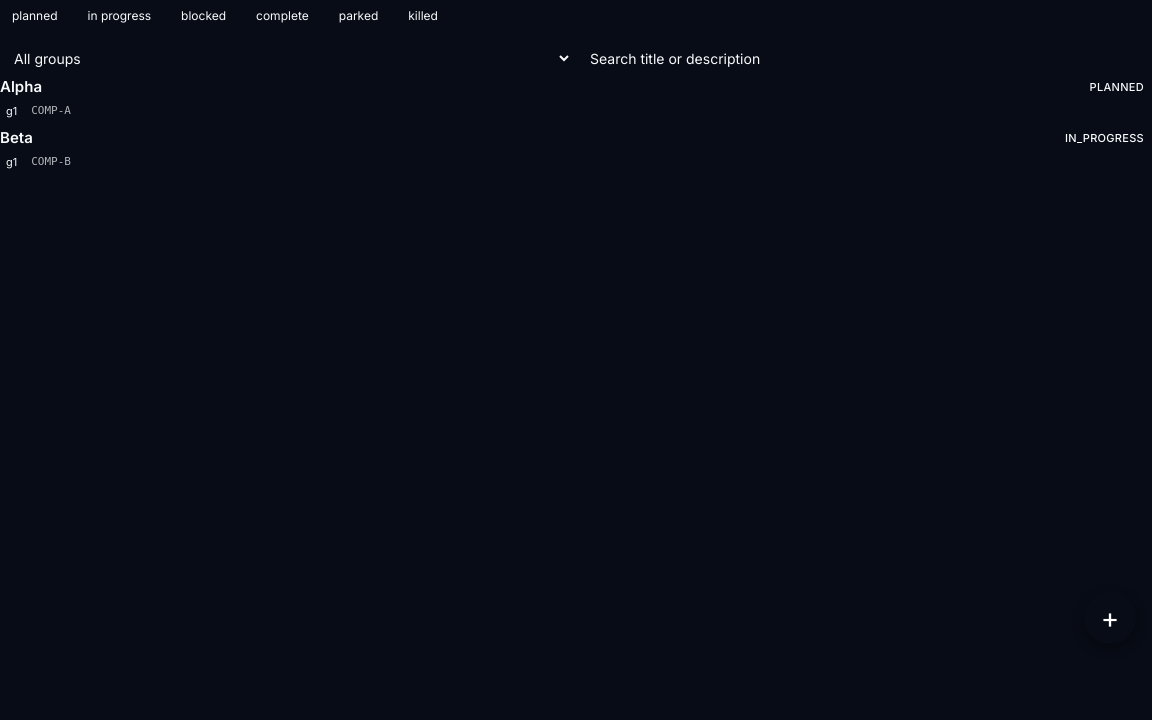
Test case: ItemDetailSheet delete two-tap (S03) › shows delete button
Step 1. Click the button with test id "mobile-item-card-COMP-A" → (21, 86), box top-left (0, 77), bottom-right (1151, 120)
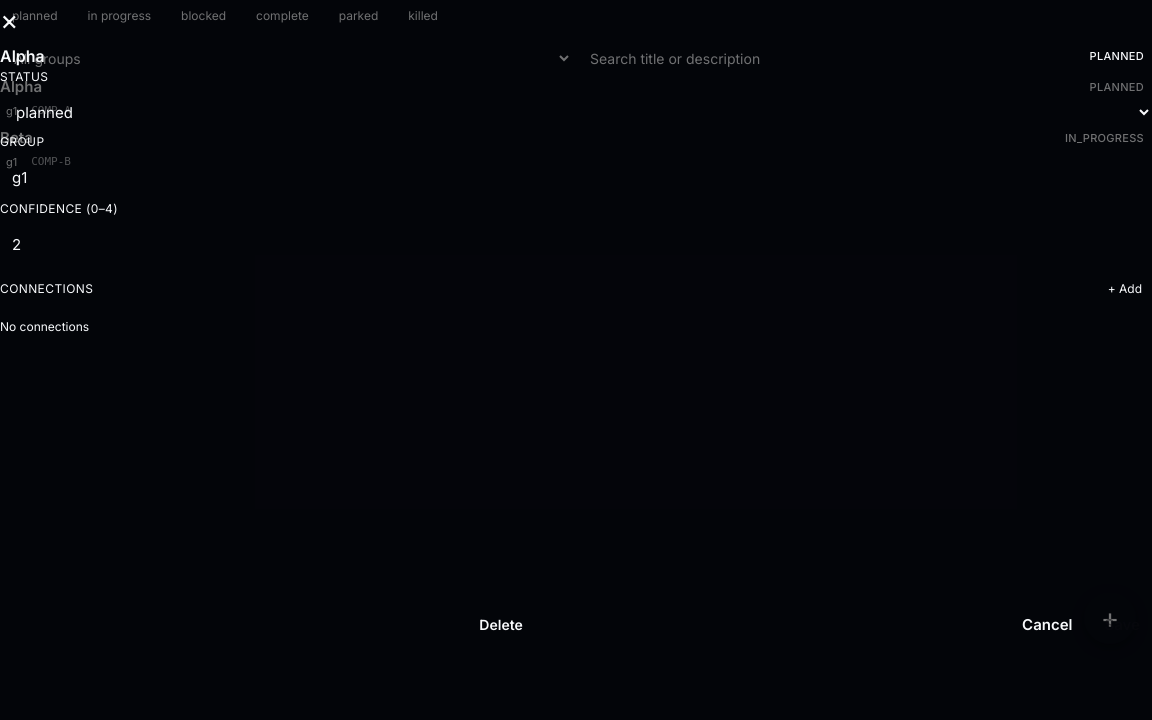
Check: the button with test id "mobile-item-sheet-delete" is shown, box top-left (0, 602), bottom-right (1002, 648)
